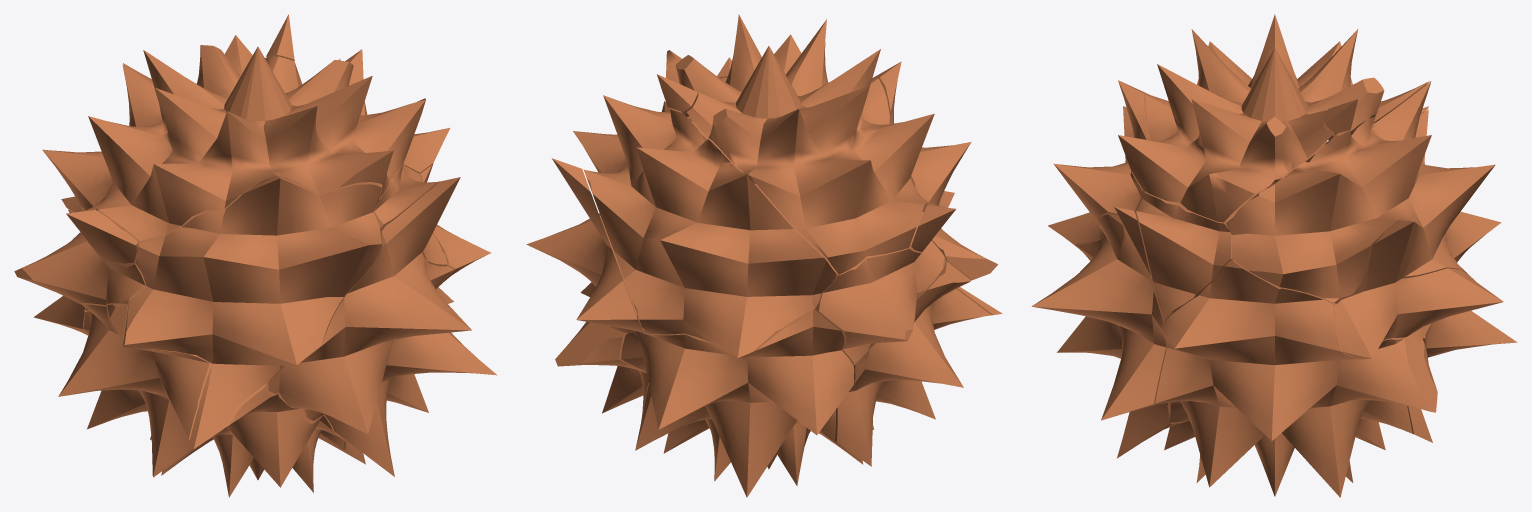
Rendered from IgaguriParts.fbx.
3 renders of one model, left to right at view 1: azimuth 30°, elevation 25°; view 2: azimuth 150°, elevation 25°; view 3: azimuth 270°, elevation 25°, orthographic. The views are drawn at different scales.
Parts seen in each view (by area): view 1: Sphere_cell.008, Sphere_cell.052, Sphere_cell.066, Sphere_cell.029, Sphere_cell.080, Sphere_cell.073, Sphere_cell.036, Sphere_cell.043, Sphere_cell.087, Sphere_cell.021; view 2: Sphere_cell.036, Sphere_cell.008, Sphere_cell.087, Sphere_cell.029, Sphere_cell.080, Sphere_cell.012, Sphere_cell.052, Sphere_cell.073, Sphere_cell.043, Sphere_cell.021; view 3: Sphere_cell.073, Sphere_cell.036, Sphere_cell.008, Sphere_cell.066, Sphere_cell.012, Sphere_cell.080, Sphere_cell.052, Sphere_cell.087, Sphere_cell.021, Sphere_cell.029.
Part boxes in pixels (bbox=[...]): Sphere_cell.008: bbox=[42, 45, 425, 240]; Sphere_cell.052: bbox=[123, 175, 383, 448]; Sphere_cell.066: bbox=[268, 177, 496, 476]; Sphere_cell.029: bbox=[58, 304, 344, 497]; Sphere_cell.080: bbox=[14, 158, 447, 311]; Sphere_cell.073: bbox=[321, 163, 490, 464]; Sphere_cell.036: bbox=[51, 35, 450, 211]; Sphere_cell.043: bbox=[66, 209, 138, 263]; Sphere_cell.087: bbox=[33, 209, 151, 439]; Sphere_cell.021: bbox=[266, 14, 294, 60]; Sphere_cell.036: bbox=[573, 95, 835, 358]; Sphere_cell.008: bbox=[666, 14, 934, 274]; Sphere_cell.087: bbox=[621, 310, 854, 497]; Sphere_cell.029: bbox=[767, 261, 991, 468]; Sphere_cell.080: bbox=[691, 77, 946, 364]; Sphere_cell.012: bbox=[526, 158, 642, 332]; Sphere_cell.052: bbox=[872, 61, 1002, 315]; Sphere_cell.073: bbox=[555, 213, 709, 453]; Sphere_cell.043: bbox=[911, 202, 955, 251]; Sphere_cell.021: bbox=[657, 74, 697, 111]; Sphere_cell.073: bbox=[1155, 260, 1437, 497]; Sphere_cell.036: bbox=[1225, 81, 1501, 303]; Sphere_cell.008: bbox=[1118, 14, 1429, 222]; Sphere_cell.066: bbox=[1031, 207, 1170, 458]; Sphere_cell.012: bbox=[1334, 220, 1503, 359]; Sphere_cell.080: bbox=[1135, 141, 1327, 322]; Sphere_cell.052: bbox=[1048, 80, 1150, 247]; Sphere_cell.087: bbox=[1355, 259, 1517, 449]; Sphere_cell.021: bbox=[1325, 99, 1358, 133]; Sphere_cell.029: bbox=[1164, 417, 1195, 450].
Bounding box in the file's own units: 67.07 × 69.72 × 71.36.
